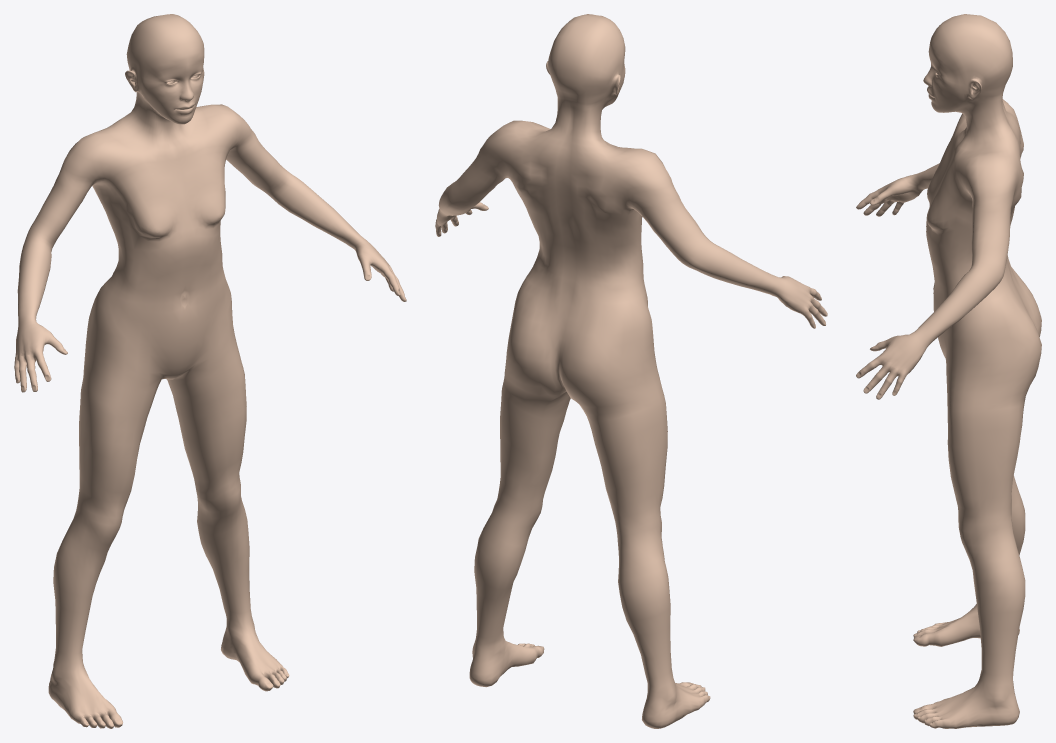
The model's file is impar-human-cc0.glb.
The picture shows the model from 3 angles, left to right: view 1: azimuth 30°, elevation 25°; view 2: azimuth 150°, elevation 25°; view 3: azimuth 270°, elevation 25°; orthographic projection.
Parts seen in each view (by area): view 1: IMPAR_Avatar_Body_CC0; view 2: IMPAR_Avatar_Body_CC0; view 3: IMPAR_Avatar_Body_CC0.
Boxes of the visible parts, x1,y1,x2,y2 form: IMPAR_Avatar_Body_CC0: [14, 14, 406, 728]; IMPAR_Avatar_Body_CC0: [435, 14, 827, 728]; IMPAR_Avatar_Body_CC0: [856, 14, 1041, 728].
Size of the model in its own units: 9.93 by 16.65 by 4.23.
